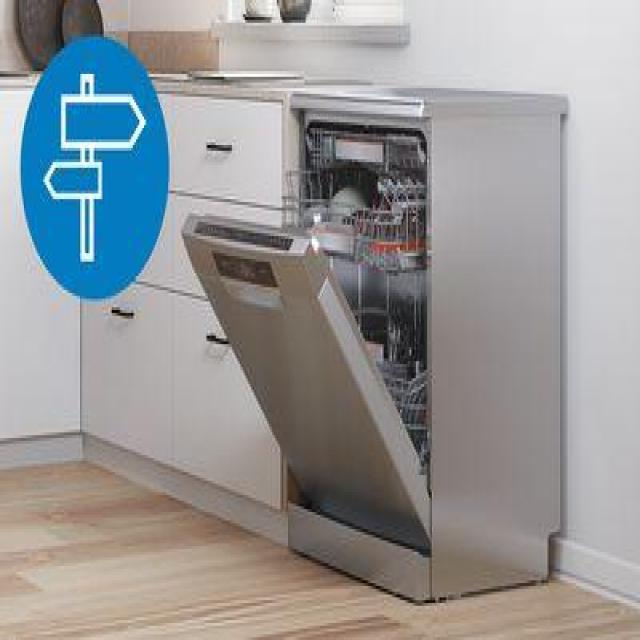dishwasher: (181, 91, 573, 604)
